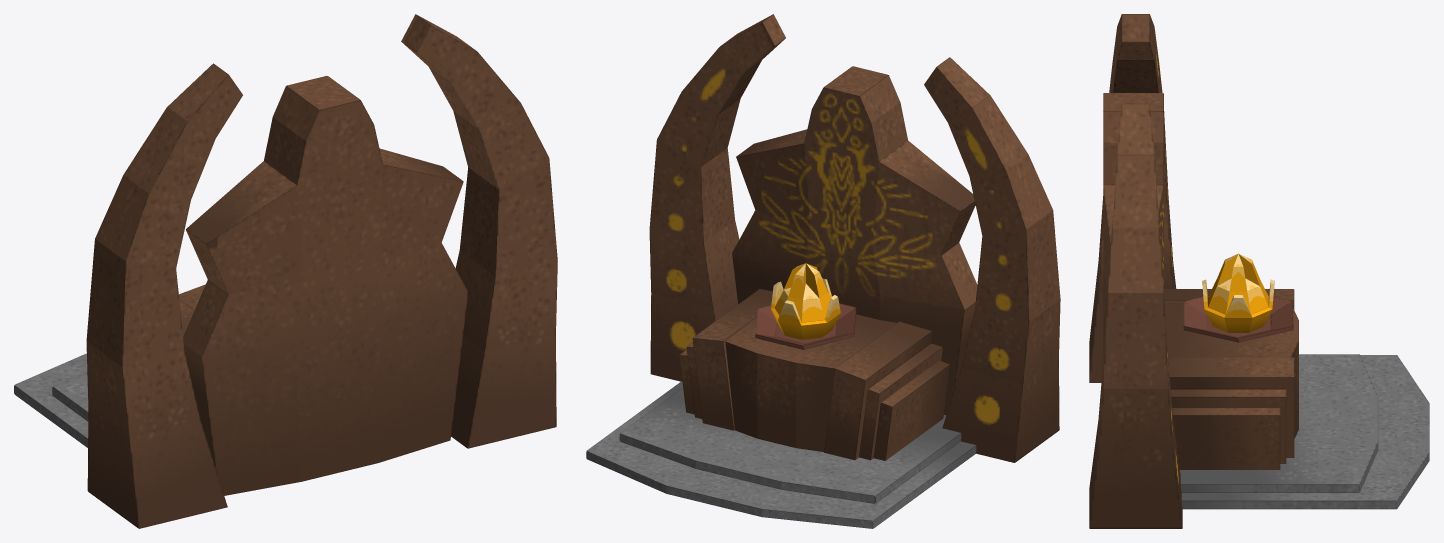
File: DragonShrinecomplete.fbx
3 renders of one model, left to right at view 1: azimuth 30°, elevation 25°; view 2: azimuth 150°, elevation 25°; view 3: azimuth 270°, elevation 25°, orthographic. The views are drawn at different scales.
Parts seen in each view (by area): view 1: cuboid; view 2: cuboid; view 3: cuboid.
Boxes of the visible parts, box(x1,y1,x2,y2) form: cuboid: box(14, 14, 557, 528); cuboid: box(586, 14, 1060, 528); cuboid: box(1089, 14, 1429, 528).
Size of the model in its own units: 612 by 558 by 456.
2 materials, 2 textured.
